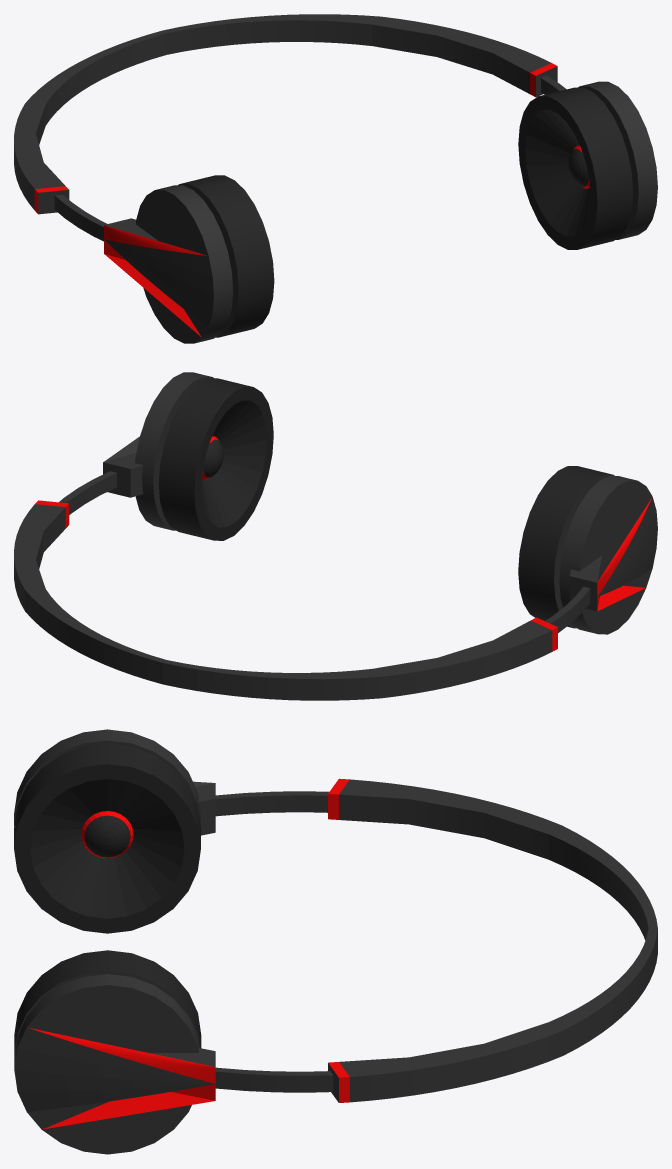
The picture shows the model from 3 angles, top to bottom: view 1: azimuth 30°, elevation 25°; view 2: azimuth 150°, elevation 25°; view 3: azimuth 270°, elevation 25°; orthographic projection. The views are drawn at different scales.
Visible parts, largest first — view 1: Model; view 2: Model; view 3: Model.
Part boxes in pixels (x1,y1,x2,y2): Model: (14,14,657,343); Model: (14,372,657,700); Model: (14,729,657,1154).
Bounding box in the file's own units: 0.1892 × 0.05 × 0.1722.
